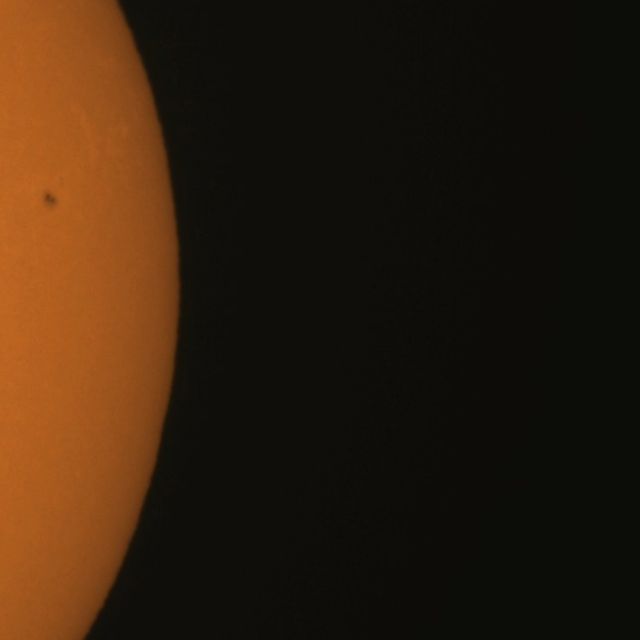sunspot: (41, 190, 60, 210)
